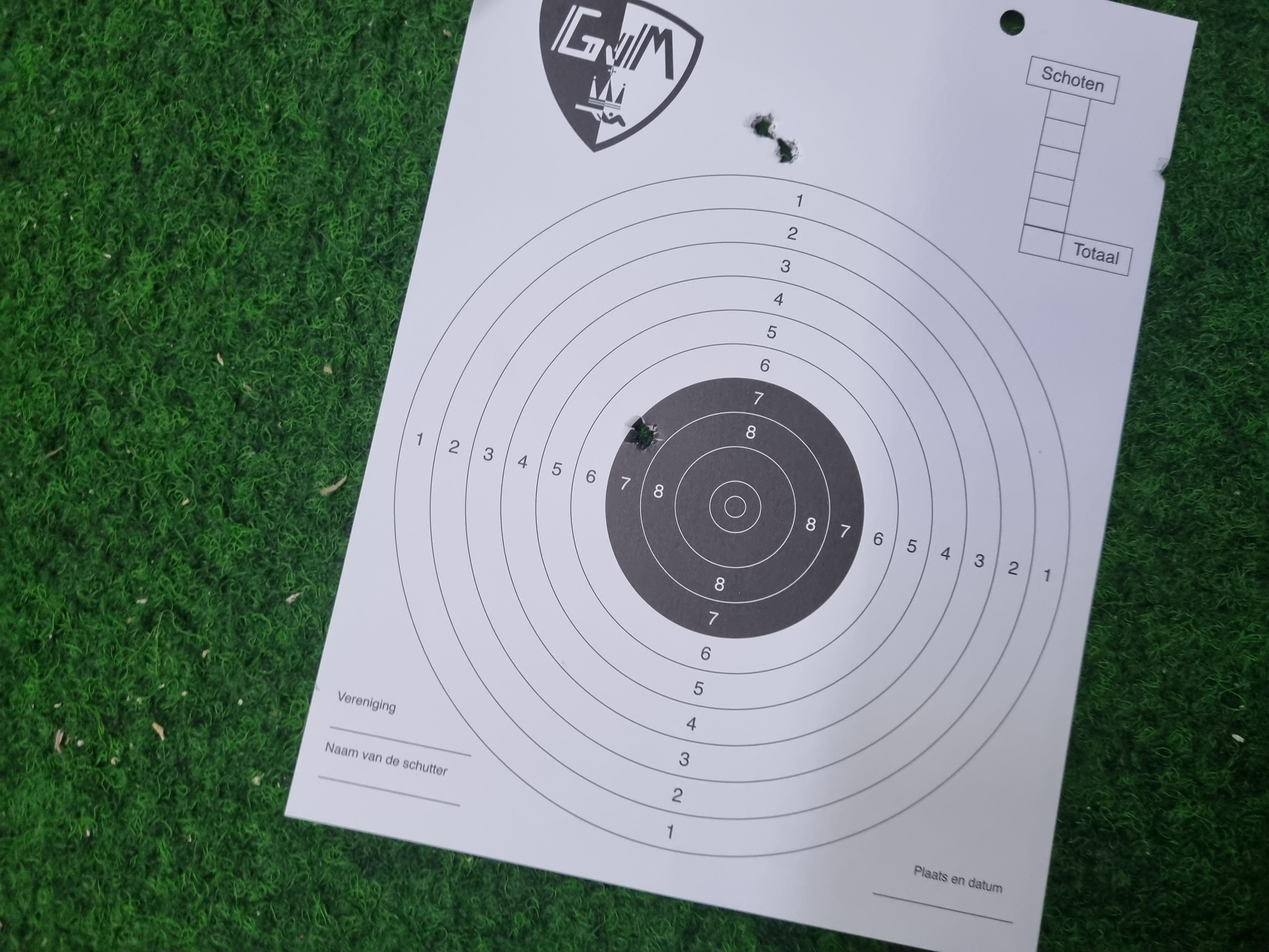hole: (670, 466, 715, 497), (1084, 561, 1118, 585), (1053, 578, 1087, 602)
